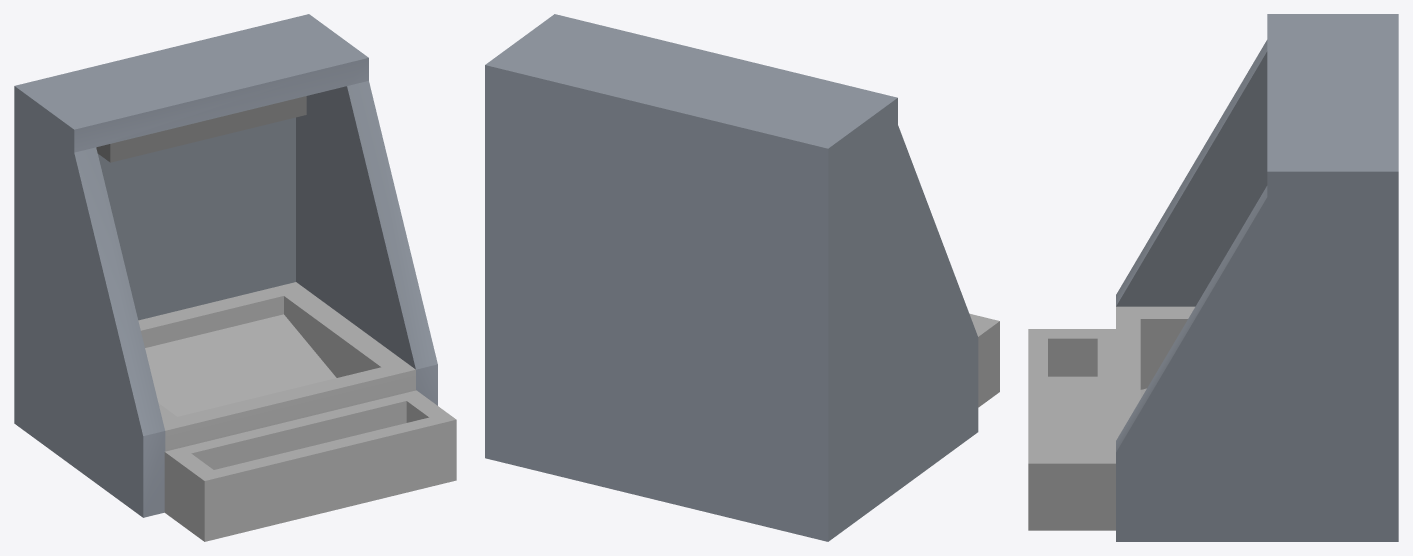
File: FriesHeater.glb
The picture shows the model from 3 angles, left to right: view 1: azimuth 30°, elevation 25°; view 2: azimuth 150°, elevation 25°; view 3: azimuth 270°, elevation 25°; orthographic projection. The views are drawn at different scales.
Visible parts, largest first — view 1: SI_Prop_FriesHeater_01; view 2: SI_Prop_FriesHeater_01; view 3: SI_Prop_FriesHeater_01.
Boxes of the visible parts, x1,y1,x2,y2 form: SI_Prop_FriesHeater_01: [14, 14, 456, 541]; SI_Prop_FriesHeater_01: [485, 14, 999, 541]; SI_Prop_FriesHeater_01: [1028, 14, 1398, 541].
Size of the model in its own units: 0.0159 by 0.0174 by 0.0158.
1 material, 1 textured.
